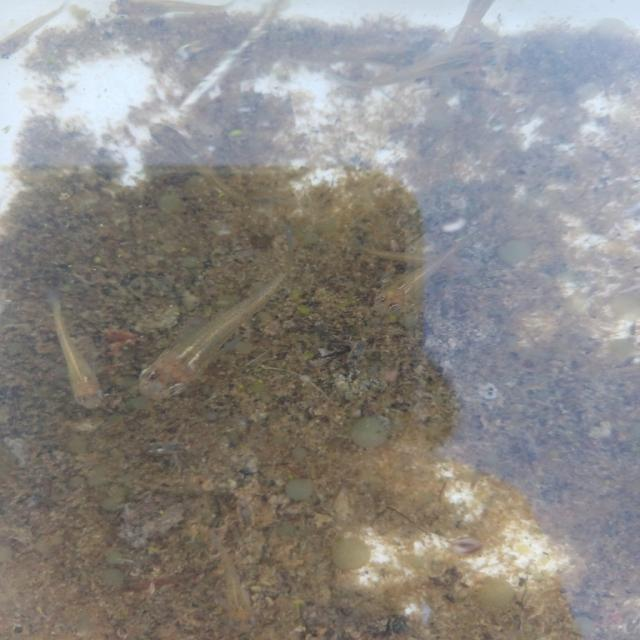Sivrisinek Baligi: (132, 247, 299, 409), (358, 216, 478, 322), (347, 28, 525, 93), (38, 292, 116, 414)
